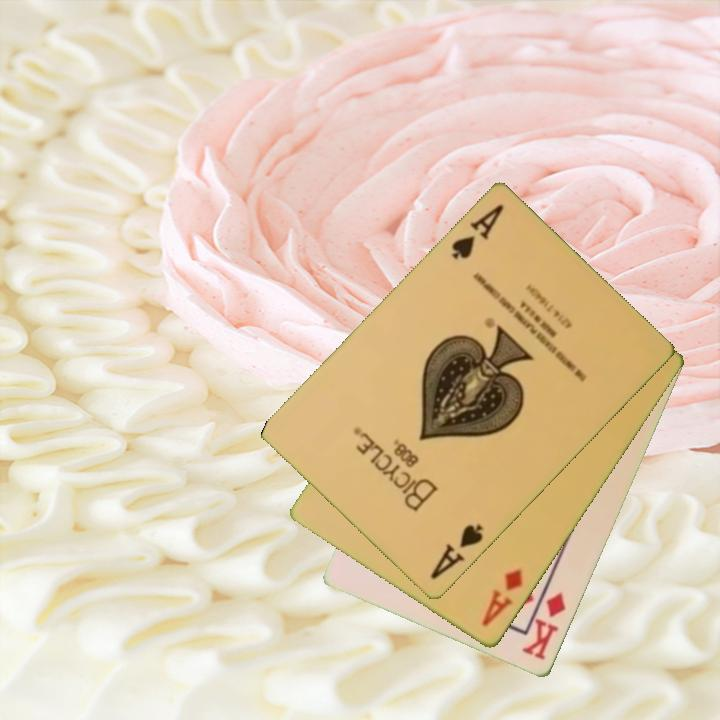Ad: (478, 565, 526, 631)
As: (426, 521, 487, 583), (448, 201, 507, 263)
Kd: (518, 589, 569, 664)
